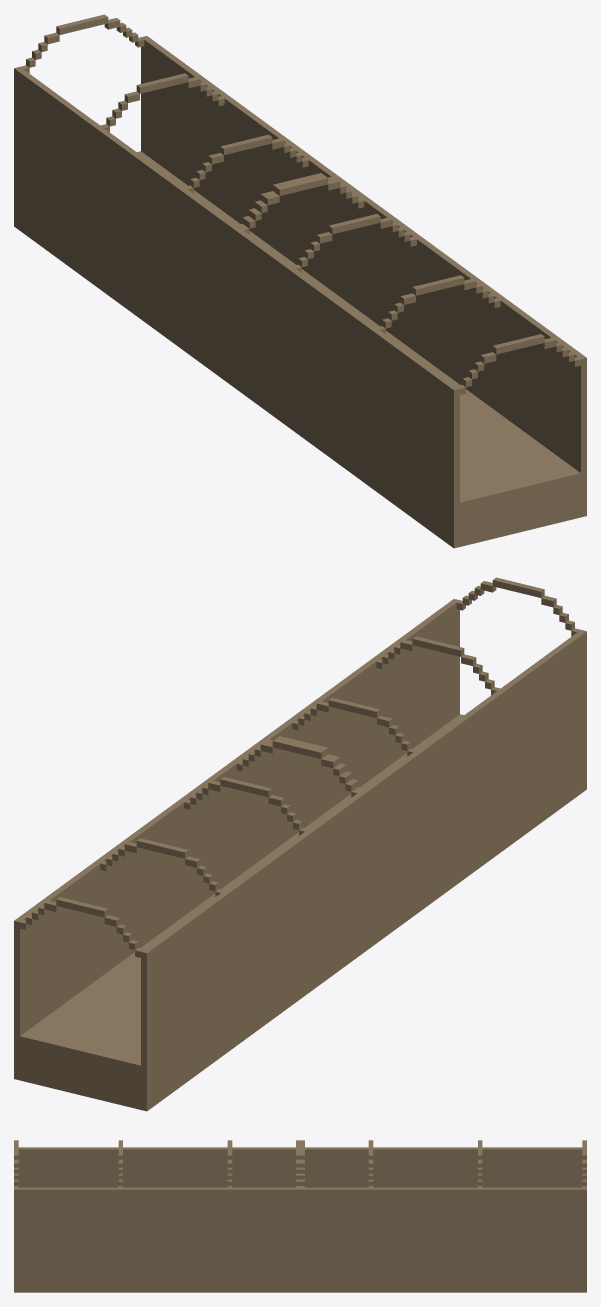
Rendered from SmallRoom1-0.obj.
The picture shows the model from 3 angles, top to bottom: view 1: azimuth 30°, elevation 25°; view 2: azimuth 150°, elevation 25°; view 3: azimuth 270°, elevation 25°; orthographic projection. The views are drawn at different scales.
Size of the model in its own units: 2.2 by 3 by 12.6.
Materials: 1 (1 with a texture image).
